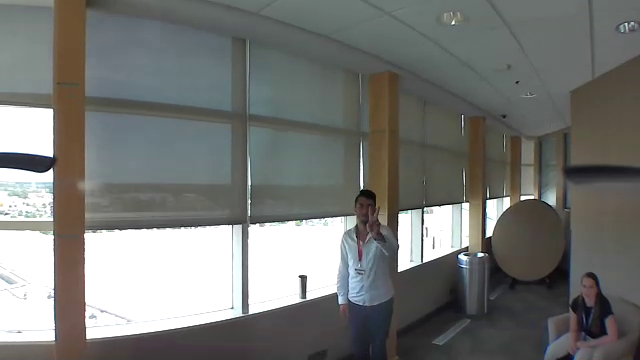peace: (364, 201, 390, 240)
